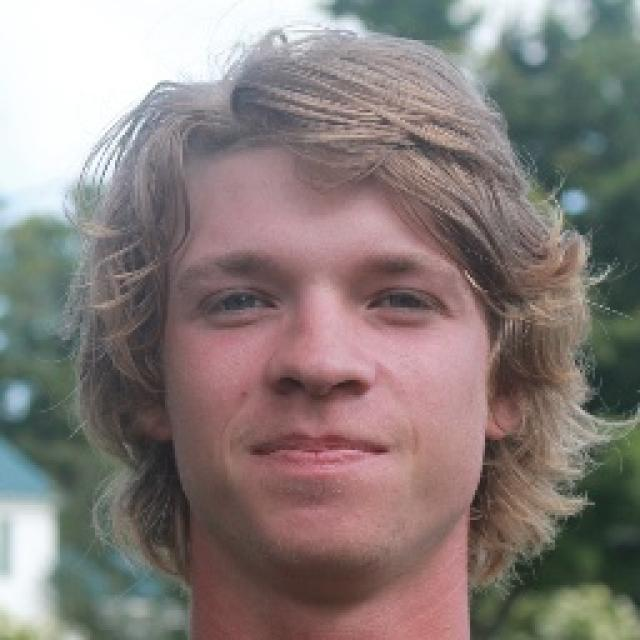earlobe: (131, 398, 171, 445), (485, 392, 524, 440)
eye: (202, 288, 280, 320), (368, 288, 443, 319)
nose: (270, 380, 372, 423)
